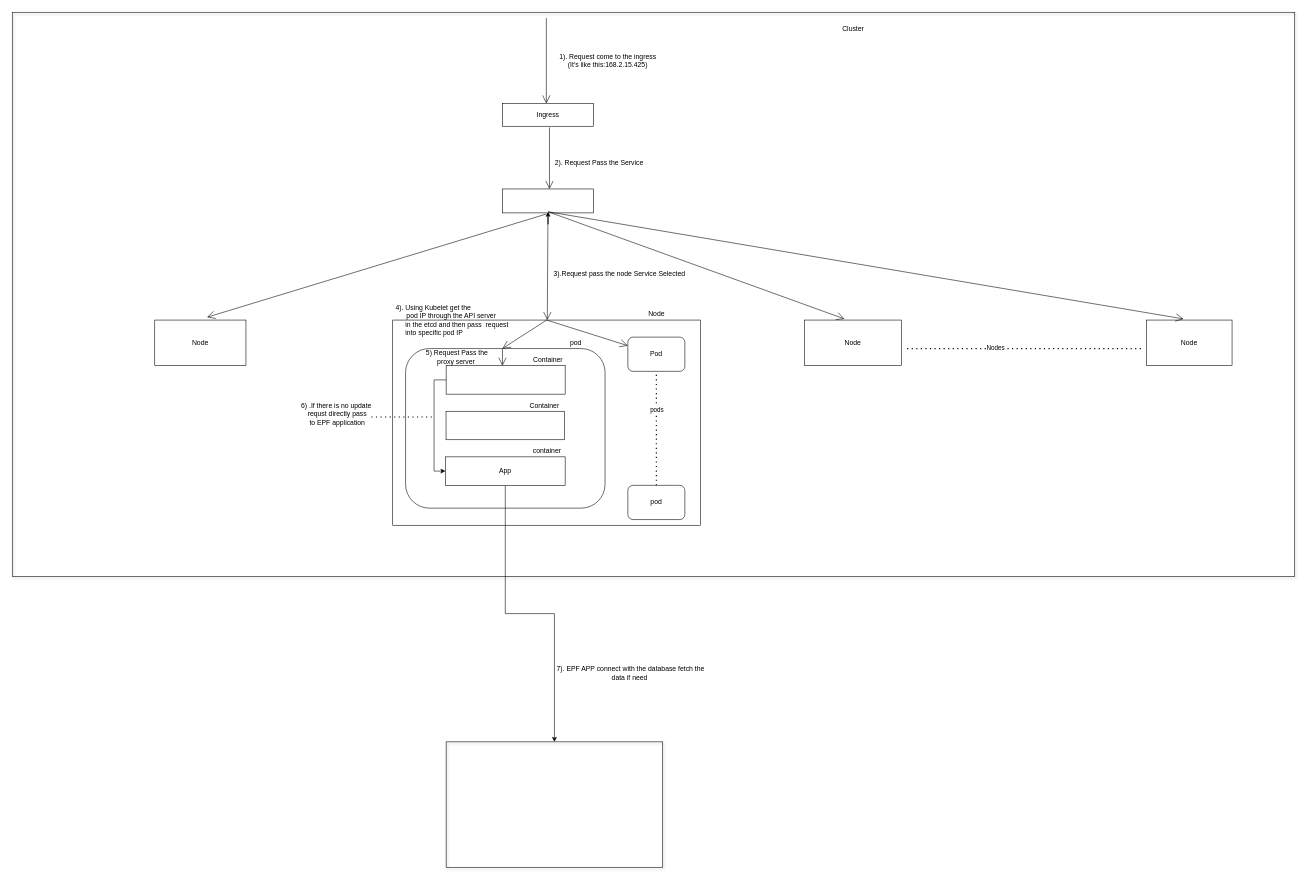
This 1308x881 diagram has some shape labels left out. Each missing label, with the centre of its shape:
"Database" belongs at point (554, 805).
"Schema Conventor sidecar" belongs at point (504, 425).
"Service" belongs at point (548, 200).
"Sidecar Proxy" belongs at point (505, 379).
